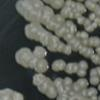white: (15, 47, 30, 67), (0, 88, 23, 100), (34, 58, 49, 74), (51, 58, 65, 74), (37, 77, 49, 94), (47, 81, 57, 100), (33, 45, 46, 59), (65, 61, 77, 76), (25, 54, 35, 72), (31, 73, 44, 86), (82, 87, 100, 96), (88, 68, 100, 79), (63, 76, 74, 88), (75, 68, 87, 78), (78, 59, 88, 70), (53, 77, 63, 88), (88, 77, 100, 86), (80, 78, 88, 89), (66, 89, 75, 98), (69, 95, 84, 100), (56, 88, 65, 96), (74, 83, 80, 93), (89, 95, 97, 100), (59, 95, 67, 100)
